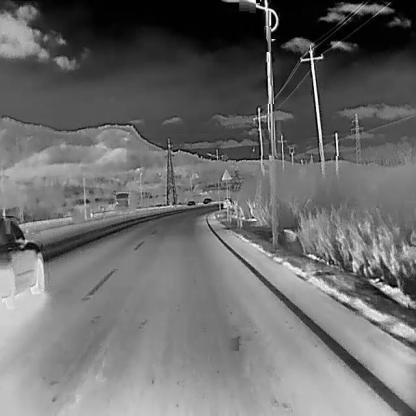car: (0, 214, 44, 308), (221, 198, 234, 208)
